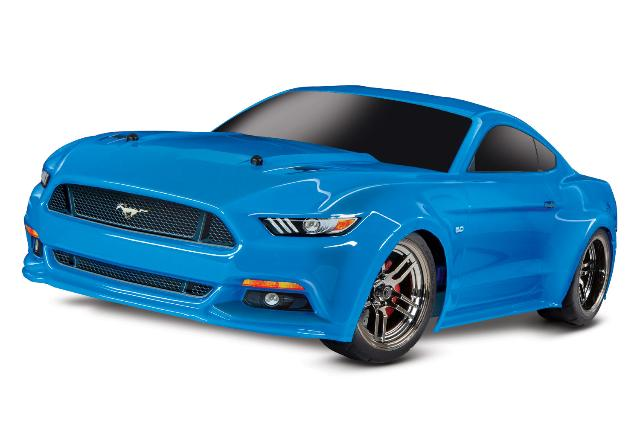ford-mustang: (22, 85, 618, 366)
